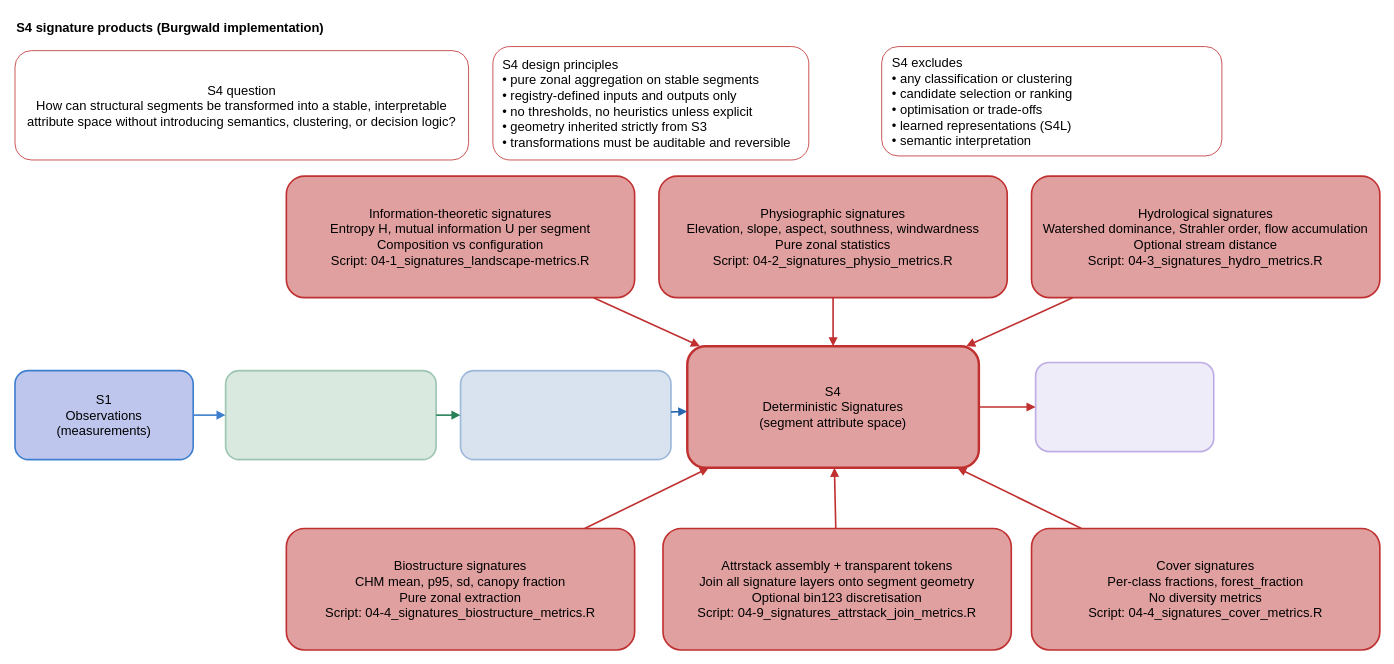
This 1394x664 diagram has some shape labels left out. Each missing label, with the centre of its shape:
S2 Derived raster products (predictor fields): the point at 330,414
S3 Segmentation & Structure (spatial units): the point at 565,414
S5 Decision logic (ranking/selection): the point at 1124,406
